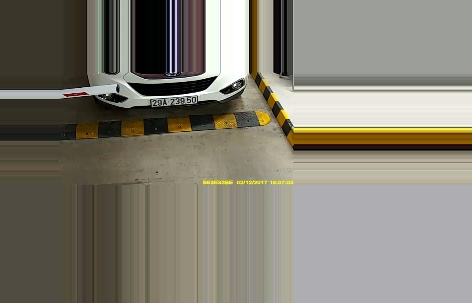plate: (148, 93, 202, 108)
